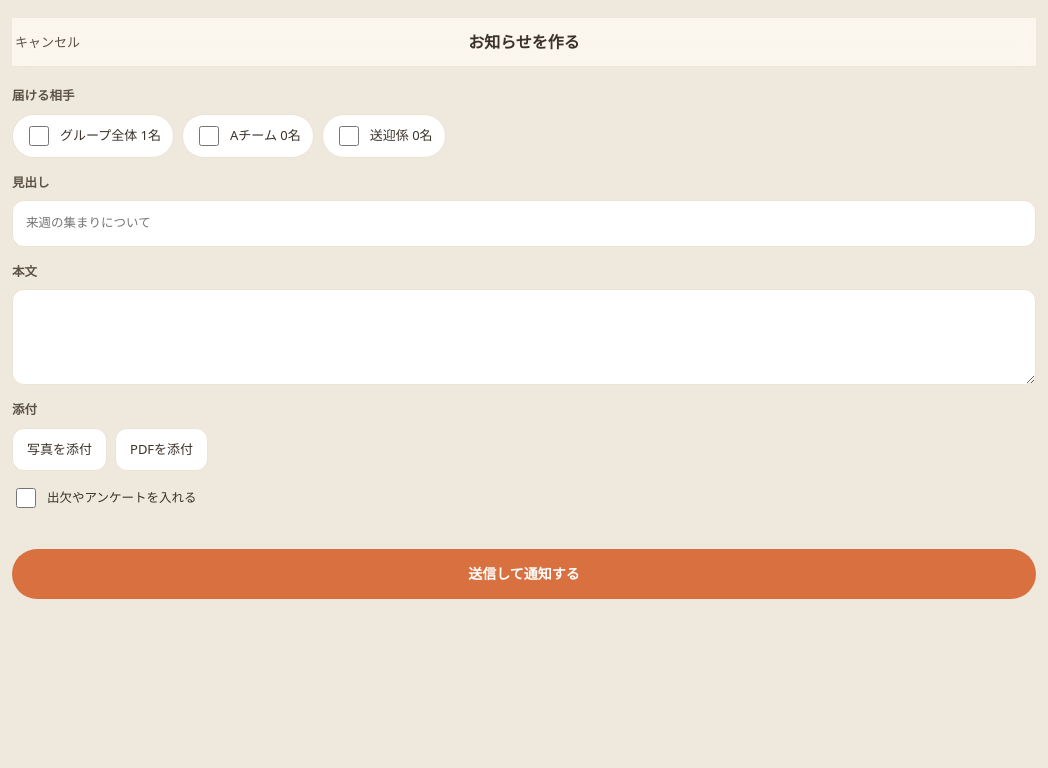
it: ComposeView › keeps the post queued and tells the user when sending fails
In the text box with test id "body": [524, 337] box [12,289,1036,385], type "こんにちは"
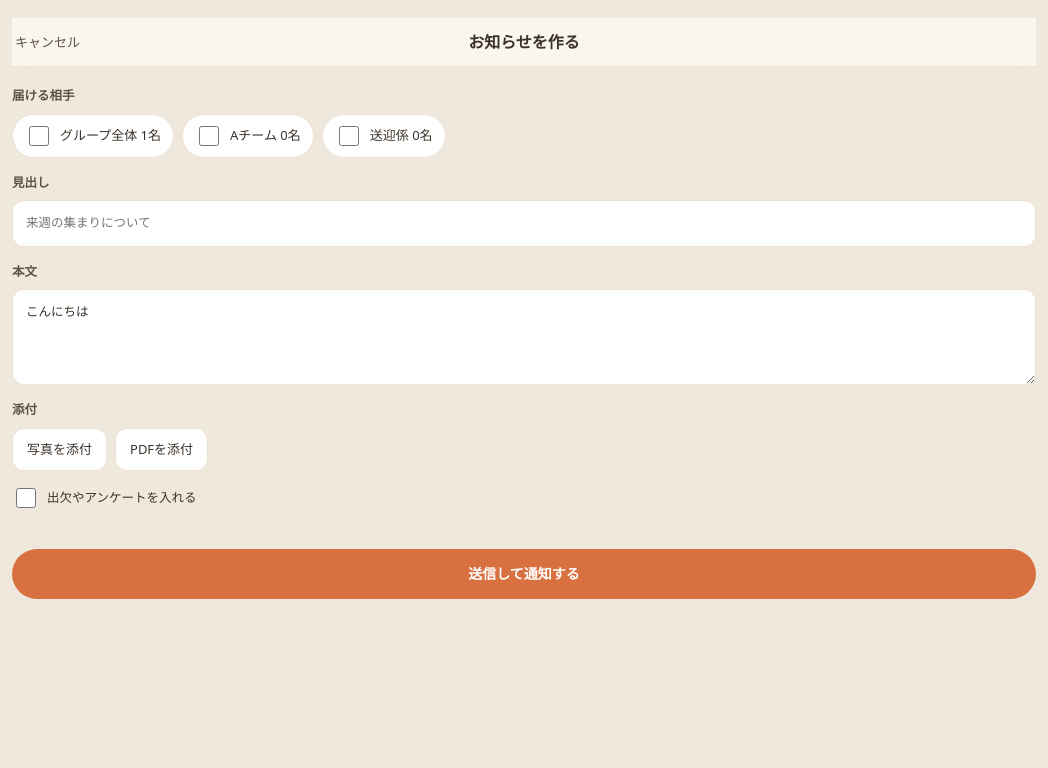
Click the checkbox with test id "scope-option" showing "Aチーム 0名": [209, 136] box [199,126,219,146]
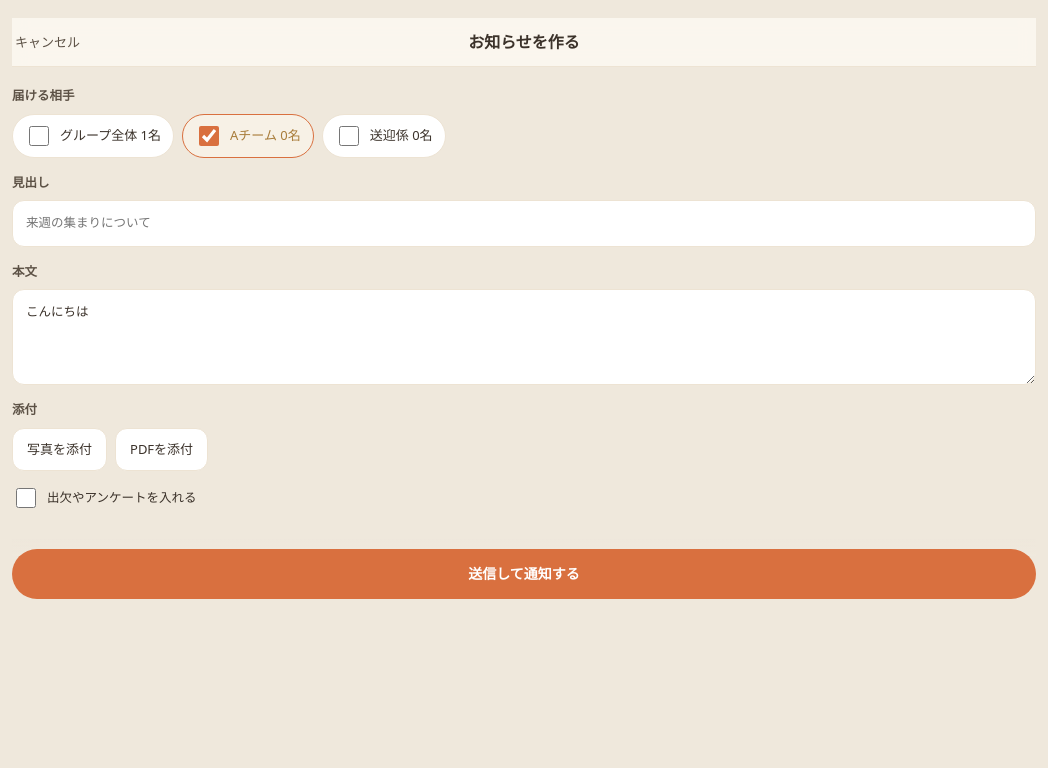
Click the button with test id "submit": [524, 574] box [12,549,1036,599]
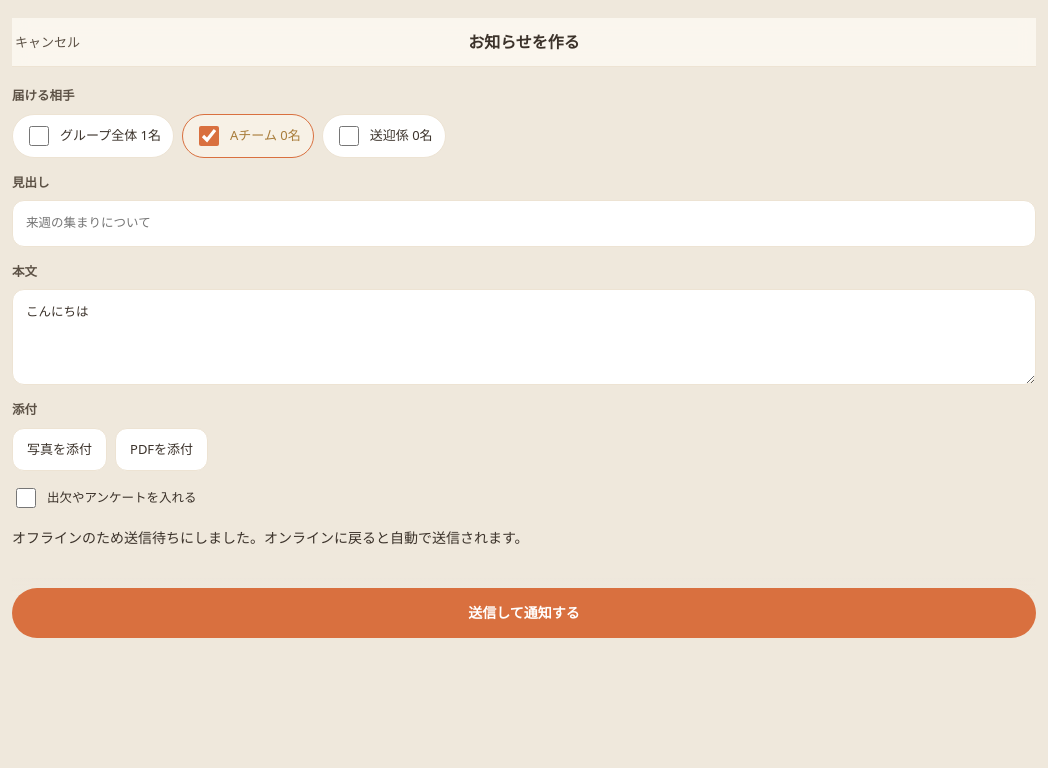
Expected: the text "オフラインのため送信待ちにしました。オンラインに戻ると自動で送信されます。" is shown, [12,528,529,547]
